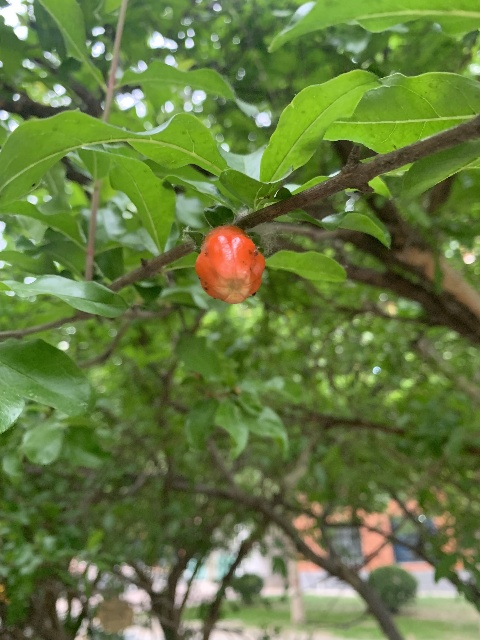bud: (194, 225, 264, 303)
